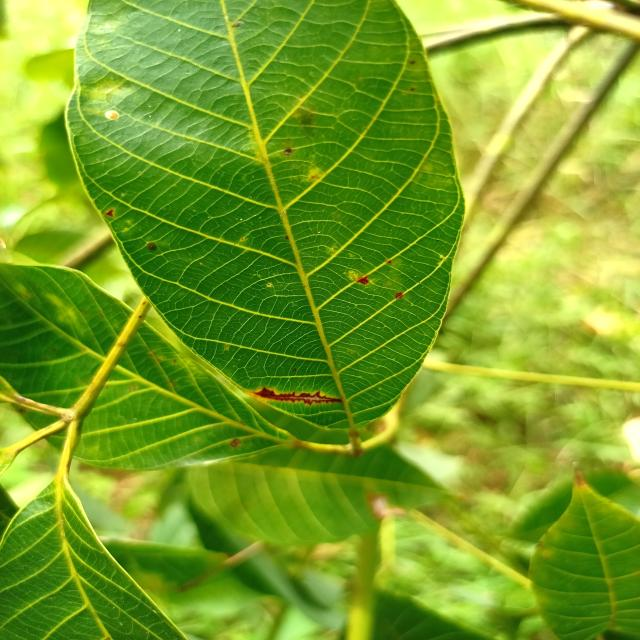Colletotrichum: (292, 368, 296, 371)
Corynespora: (254, 387, 343, 406)
